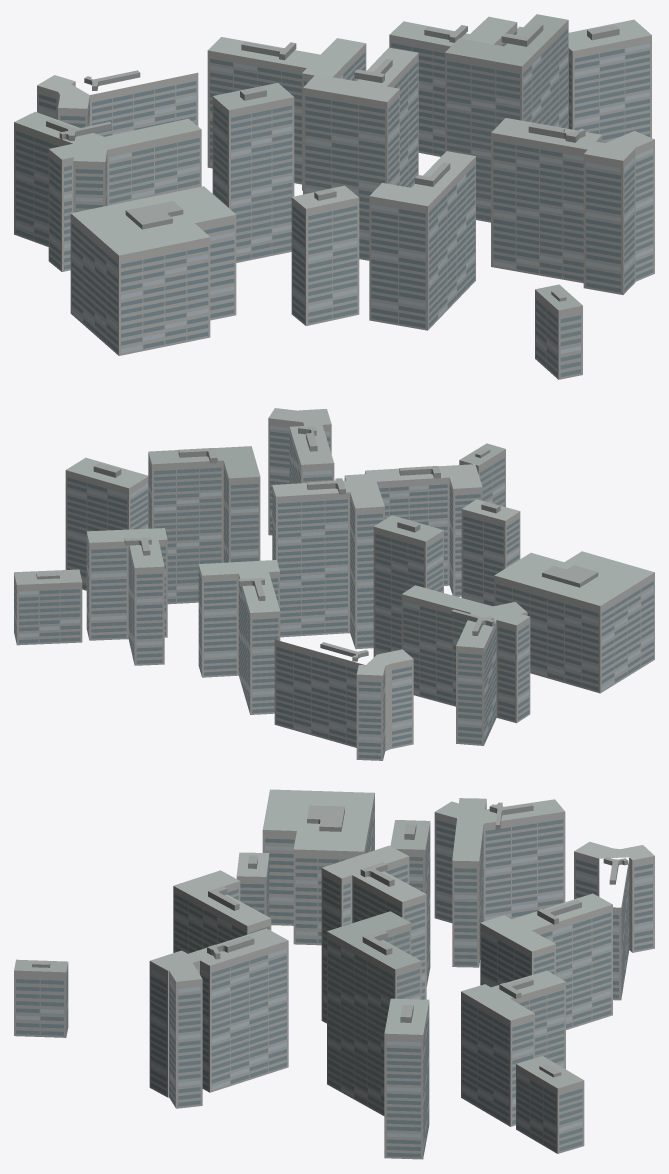
File: apt-a10025985.glb
3 views of the same model, one above another, from view 1: azimuth 30°, elevation 25°; view 2: azimuth 150°, elevation 25°; view 3: azimuth 270°, elevation 25° (orthographic). The views are drawn at different scales.
Visible parts, largest first — view 1: apt-a10025985; view 2: apt-a10025985; view 3: apt-a10025985.
Part boxes in pixels (left/top/right/bottom): apt-a10025985: left=14, top=14, right=654, bottom=379; apt-a10025985: left=14, top=408, right=654, bottom=760; apt-a10025985: left=14, top=789, right=654, bottom=1159.
Size of the model in its own units: 249 by 67 by 245.
